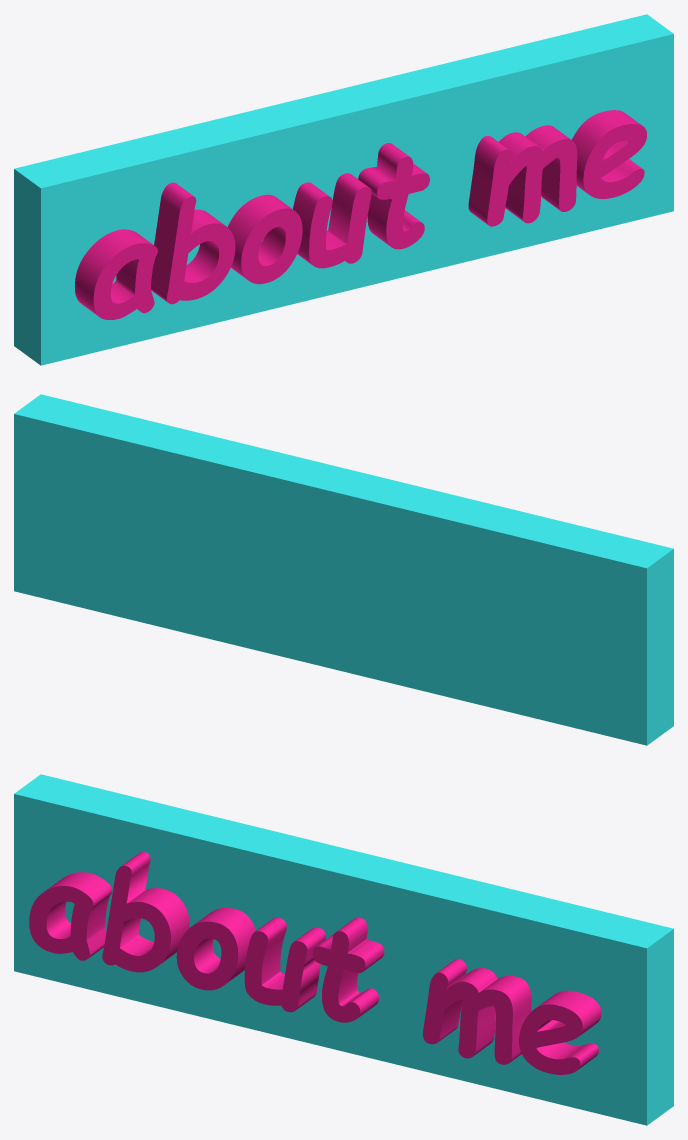
The model's file is aboutme.glb.
3 renders of one model, top to bottom at view 1: azimuth 30°, elevation 25°; view 2: azimuth 150°, elevation 25°; view 3: azimuth 330°, elevation 25°, orthographic.
Visible parts, largest first — view 1: Cube, Text; view 2: Cube; view 3: Cube, Text.
Boxes of the visible parts, left/top/right/bottom form: Cube: left=14, top=14, right=673, bottom=365; Text: left=75, top=110, right=646, bottom=319; Cube: left=14, top=394, right=673, bottom=745; Cube: left=14, top=774, right=673, bottom=1125; Text: left=29, top=852, right=601, bottom=1074.
Bounding box in the file's own units: 6.8 × 1.82 × 0.8491.
